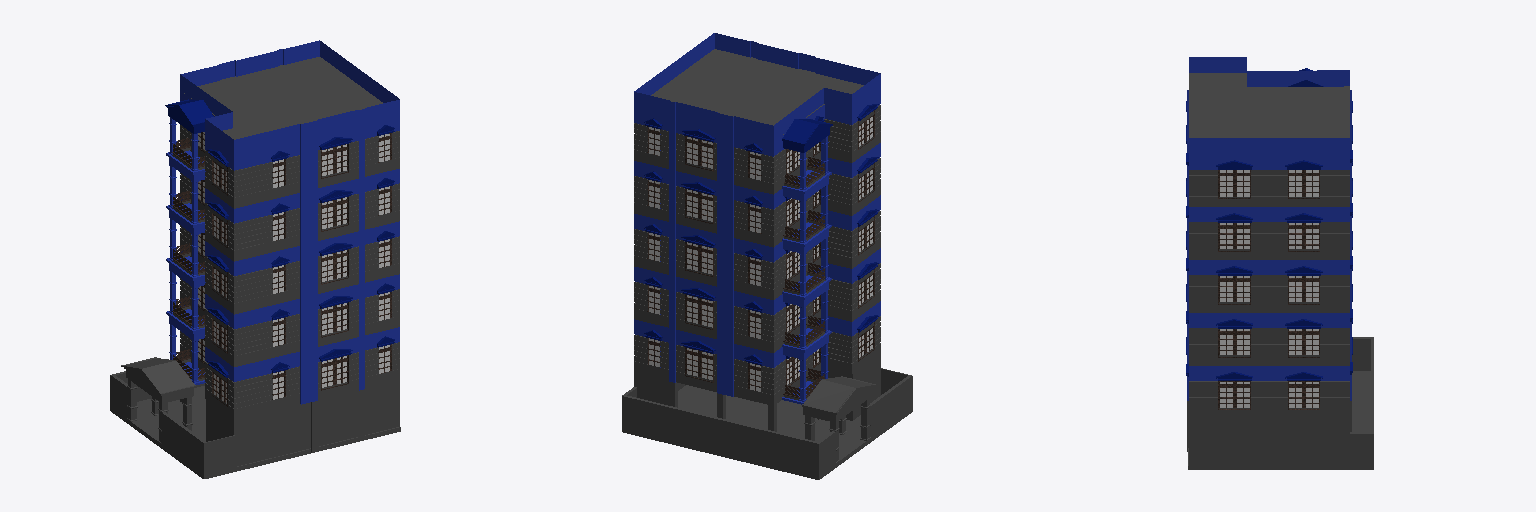
3 views of the same model, side by side, from view 1: azimuth 30°, elevation 25°; view 2: azimuth 150°, elevation 25°; view 3: azimuth 270°, elevation 25° (orthographic).
Parts seen in each view (by area): view 1: Cube.013; view 2: Cube.013; view 3: Cube.013.
Boxes of the visible parts, box(x1,y1,x2,y2) form: Cube.013: box(110, 40, 400, 478); Cube.013: box(622, 33, 912, 479); Cube.013: box(1186, 57, 1373, 469).
Bounding box in the file's own units: 7.29 × 11.36 × 5.86.
5 materials, 1 textured.